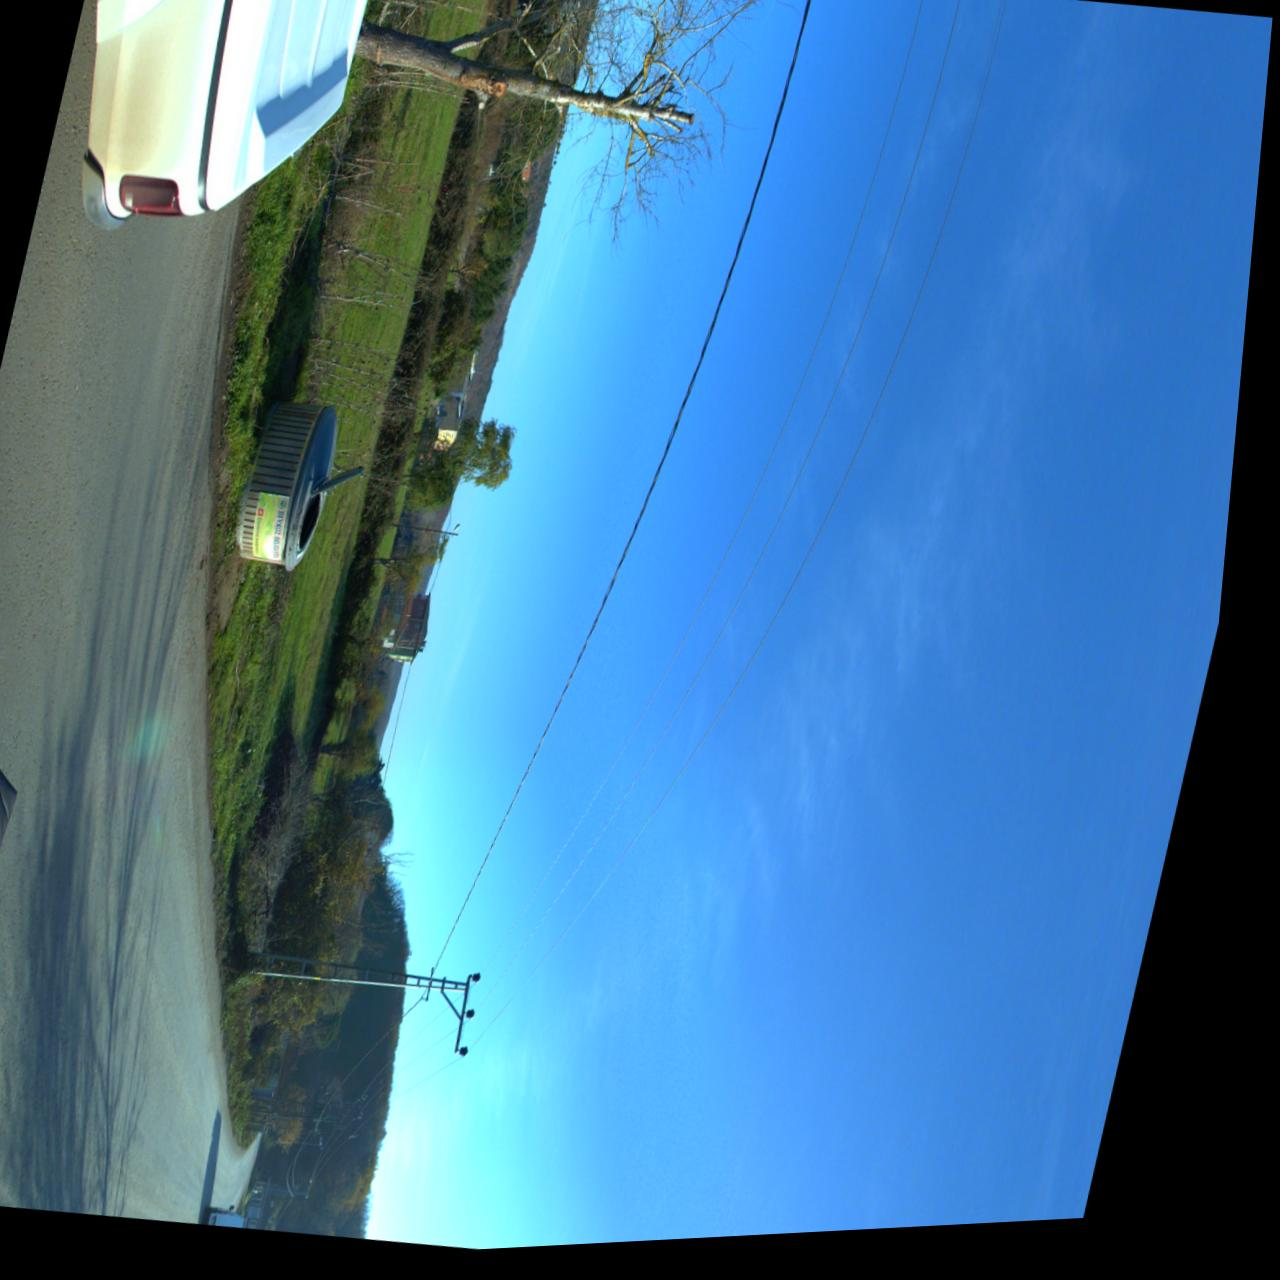Utility Pole Information Plate: (332, 980, 339, 985)
